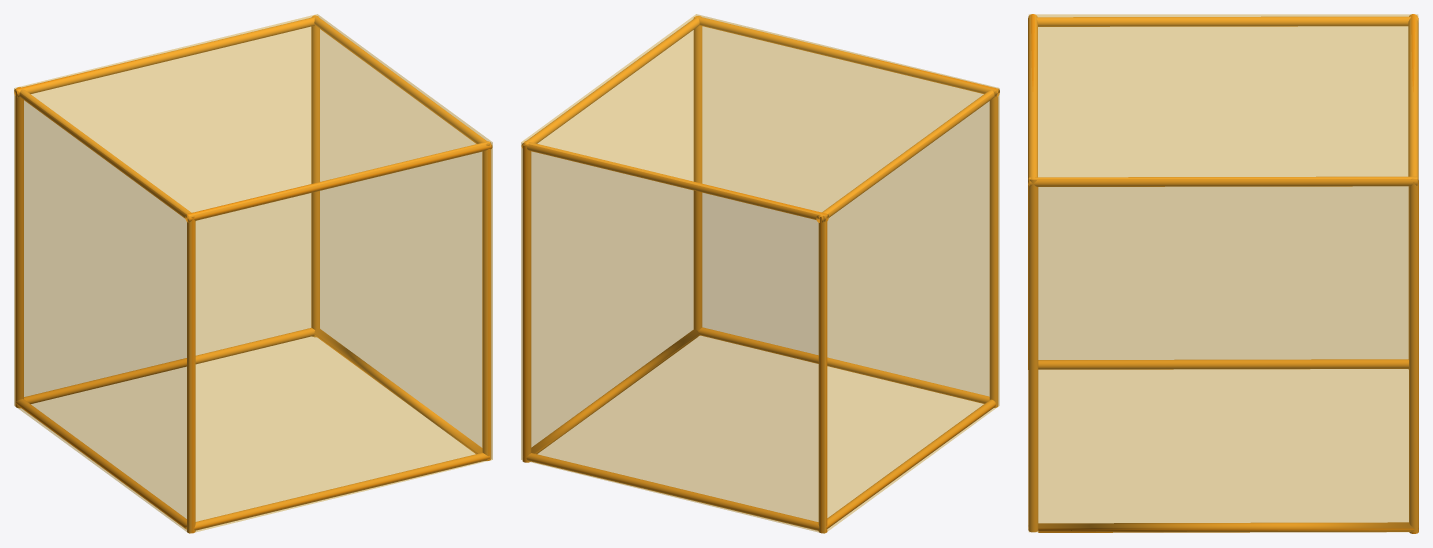
File: geokubus.fbx
3 renders of one model, left to right at view 1: azimuth 30°, elevation 25°; view 2: azimuth 150°, elevation 25°; view 3: azimuth 270°, elevation 25°, orthographic. The views are drawn at different scales.
Visible parts, largest first — view 1: Cube, Cylinder.002, Cylinder.001, Cylinder.004, Cylinder.009, Cylinder, Cylinder.003, Cylinder.005, Cylinder.008, Cylinder.006, Cylinder.007, Cylinder.010; view 2: Cube, Cylinder.002, Cylinder.003, Cylinder, Cylinder.001, Cylinder.009, Cylinder.004, Cylinder.008, Cylinder.005, Cylinder.010, Cylinder.006, Cylinder.007; view 3: Cube, Cylinder.002, Cylinder.006, Cylinder.010, Cylinder.007, Cylinder.001, Cylinder.009, Cylinder.004.
Boxes of the visible parts, x1,y1,x2,y2 form: Cube: (14, 14, 492, 533); Cylinder.002: (311, 25, 482, 453); Cylinder.001: (482, 142, 491, 460); Cylinder.004: (185, 141, 491, 222); Cylinder.009: (14, 16, 318, 97); Cylinder: (187, 216, 195, 533); Cylinder.003: (15, 91, 23, 408); Cylinder.005: (194, 452, 489, 530); Cylinder.008: (24, 328, 314, 403); Cylinder.006: (311, 15, 492, 150); Cylinder.007: (15, 399, 186, 529); Cylinder.010: (16, 87, 191, 218); Cube: (521, 14, 999, 533); Cylinder.002: (522, 145, 699, 462); Cylinder.003: (818, 216, 827, 533); Cylinder: (989, 97, 998, 407); Cylinder.001: (693, 17, 702, 335); Cylinder.009: (522, 141, 828, 222); Cylinder.004: (694, 16, 999, 97); Cylinder.008: (523, 453, 819, 530); Cylinder.005: (698, 327, 989, 403); Cylinder.010: (816, 90, 994, 222); Cylinder.006: (521, 16, 701, 148); Cylinder.007: (826, 399, 995, 528); Cube: (1028, 14, 1418, 532); Cylinder.002: (1038, 179, 1418, 533); Cylinder.006: (1029, 176, 1417, 186); Cylinder.010: (1036, 16, 1418, 26); Cylinder.007: (1038, 359, 1408, 369); Cylinder.001: (1028, 178, 1038, 532); Cylinder.009: (1408, 14, 1418, 184); Cylinder.004: (1028, 14, 1037, 185).
Size of the model in its own units: 261 by 262 by 261.
